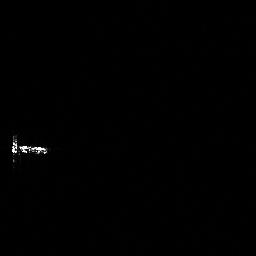ship: (11, 135, 49, 161)
